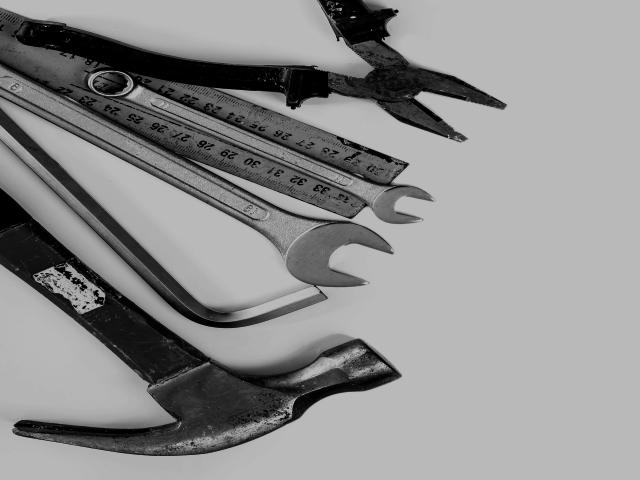Hammer: (1, 192, 401, 456)
Pliers: (17, 0, 507, 142)
Wrench: (1, 65, 392, 287), (87, 68, 434, 224)
